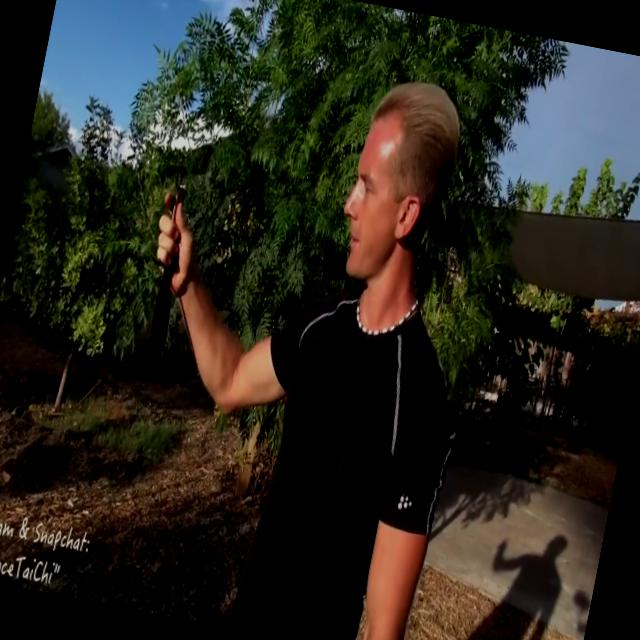knife: (120, 166, 212, 396)
